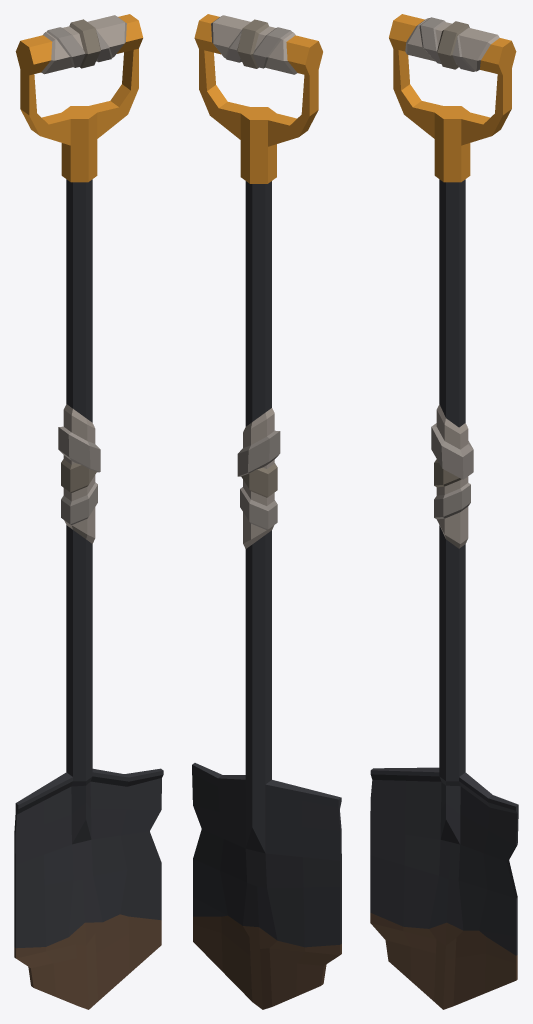
Rendered from SM_Shovel.fbx.
3 renders of one model, left to right at view 1: azimuth 30°, elevation 25°; view 2: azimuth 150°, elevation 25°; view 3: azimuth 330°, elevation 25°, orthographic.
Visible parts, largest first — view 1: SM_Shovel; view 2: SM_Shovel; view 3: SM_Shovel.
Boxes of the visible parts, x1,y1,x2,y2 form: SM_Shovel: [14, 14, 163, 1009]; SM_Shovel: [192, 14, 341, 1009]; SM_Shovel: [370, 14, 518, 1009].
Size of the model in its own units: 23.96 by 153 by 6.7.
